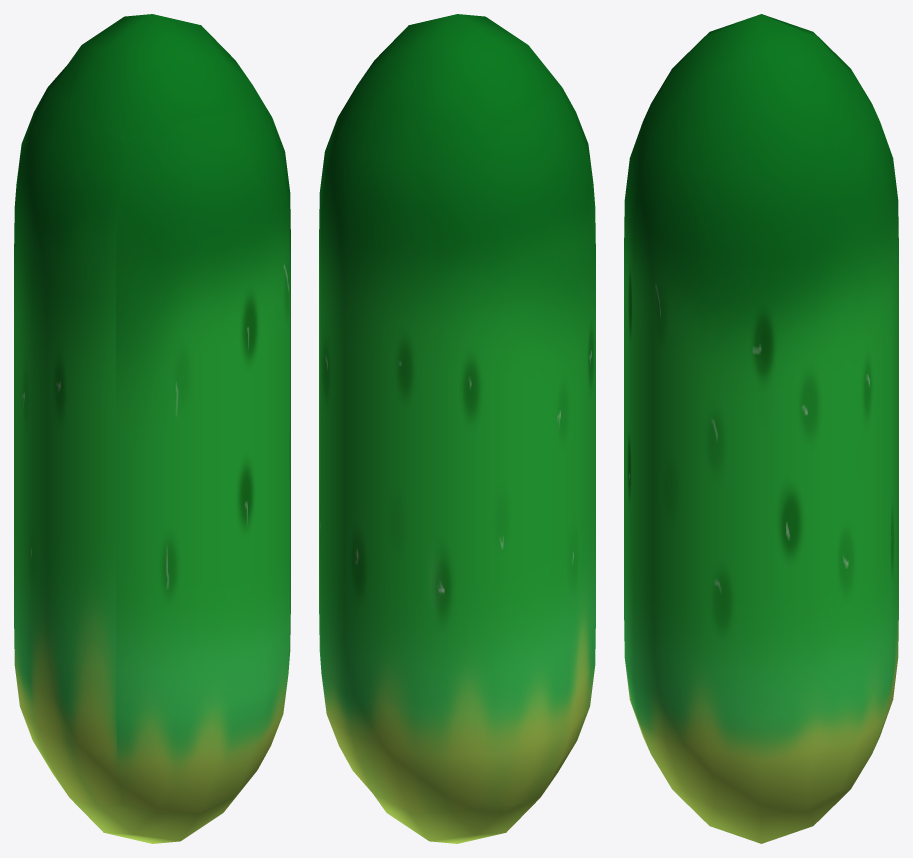
File: Cucumber.fbx
3 views of the same model, side by side, from view 1: azimuth 30°, elevation 25°; view 2: azimuth 150°, elevation 25°; view 3: azimuth 270°, elevation 25° (orthographic).
Visible parts, largest first — view 1: Cube; view 2: Cube; view 3: Cube.
Part boxes in pixels (bbox=[...]): Cube: bbox=[14, 14, 290, 843]; Cube: bbox=[319, 14, 595, 843]; Cube: bbox=[624, 14, 898, 843].
Size of the model in its own units: 55.08 by 183 by 55.08.
